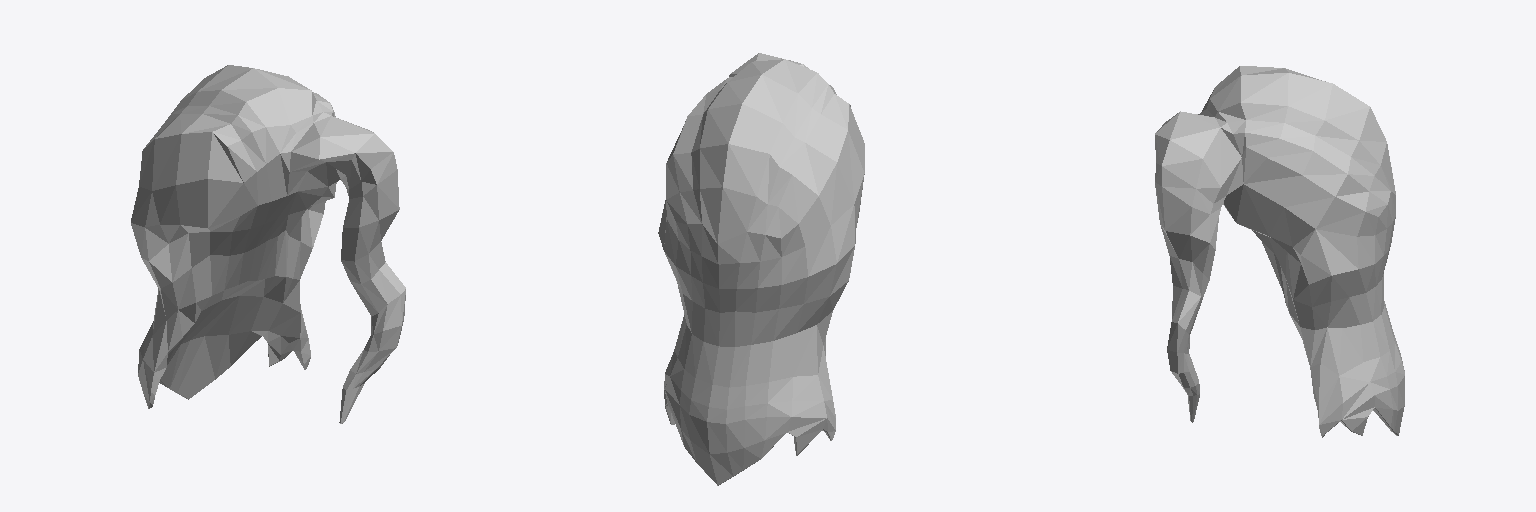
The model's file is hair_toU.obj.
3 renders of one model, left to right at view 1: azimuth 30°, elevation 25°; view 2: azimuth 150°, elevation 25°; view 3: azimuth 270°, elevation 25°, orthographic.
Parts seen in each view (by area): view 1: default; view 2: default; view 3: default.
Part boxes in pixels (x1,y1,x2,y2): default: (131,65,405,423); default: (658,53,864,485); default: (1155,66,1404,437).
Bounding box in the file's own units: 48.96 × 86.95 × 53.64.